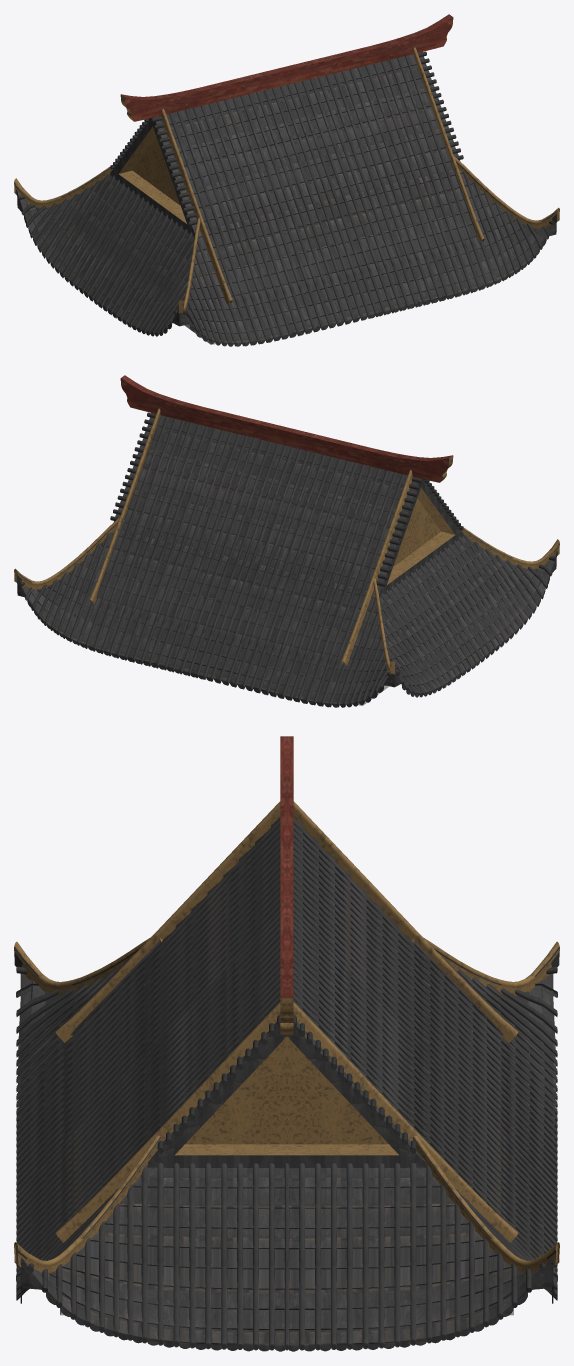
Rendered from Roof.fbx.
The picture shows the model from 3 angles, top to bottom: view 1: azimuth 30°, elevation 25°; view 2: azimuth 150°, elevation 25°; view 3: azimuth 270°, elevation 25°; orthographic projection. The views are drawn at different scales.
Parts seen in each view (by area): view 1: polySurface4 (×4); view 2: polySurface4 (×4); view 3: polySurface4 (×4).
Part boxes in pixels (x1=…): polySurface4 (×4): x1=14, y1=14, x2=559, y2=346; polySurface4 (×4): x1=14, y1=375, x2=559, y2=707; polySurface4 (×4): x1=14, y1=736, x2=559, y2=1351.
Bounding box in the file's own units: 19.74 × 10.08 × 14.96.
